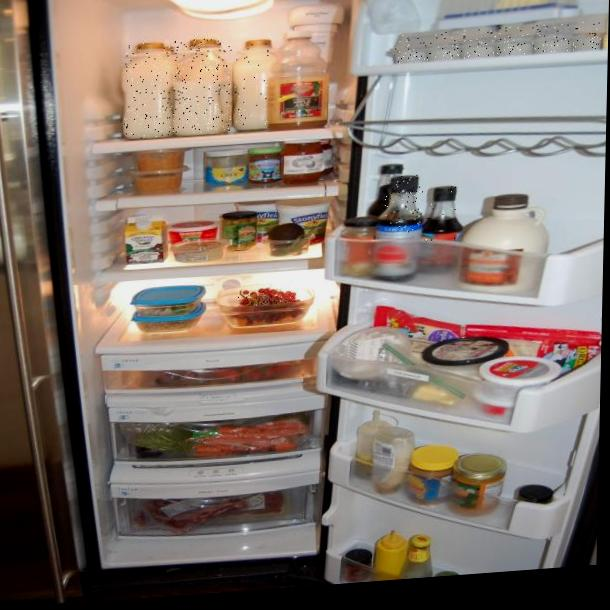eggs: (394, 20, 603, 64)
milk: (173, 37, 233, 135), (124, 40, 174, 139), (234, 40, 270, 130)
red grapes: (238, 286, 296, 307)
sauce: (384, 174, 423, 234), (425, 185, 463, 241)
